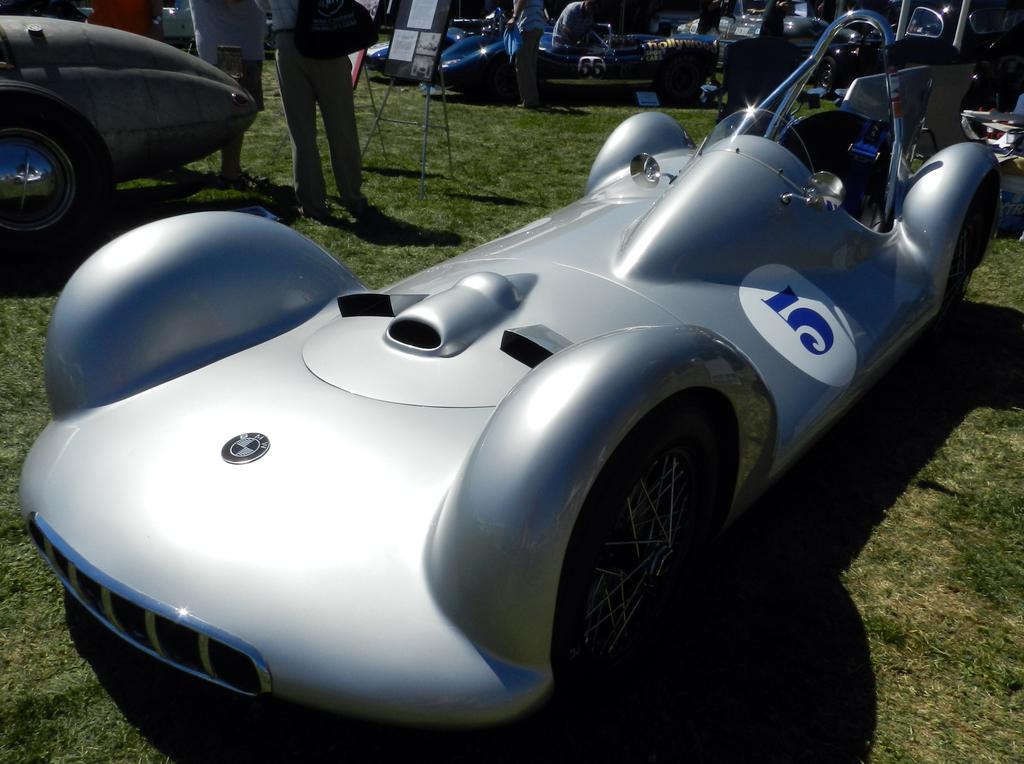Car: (18, 10, 1003, 728), (0, 13, 257, 267), (432, 23, 717, 108)
